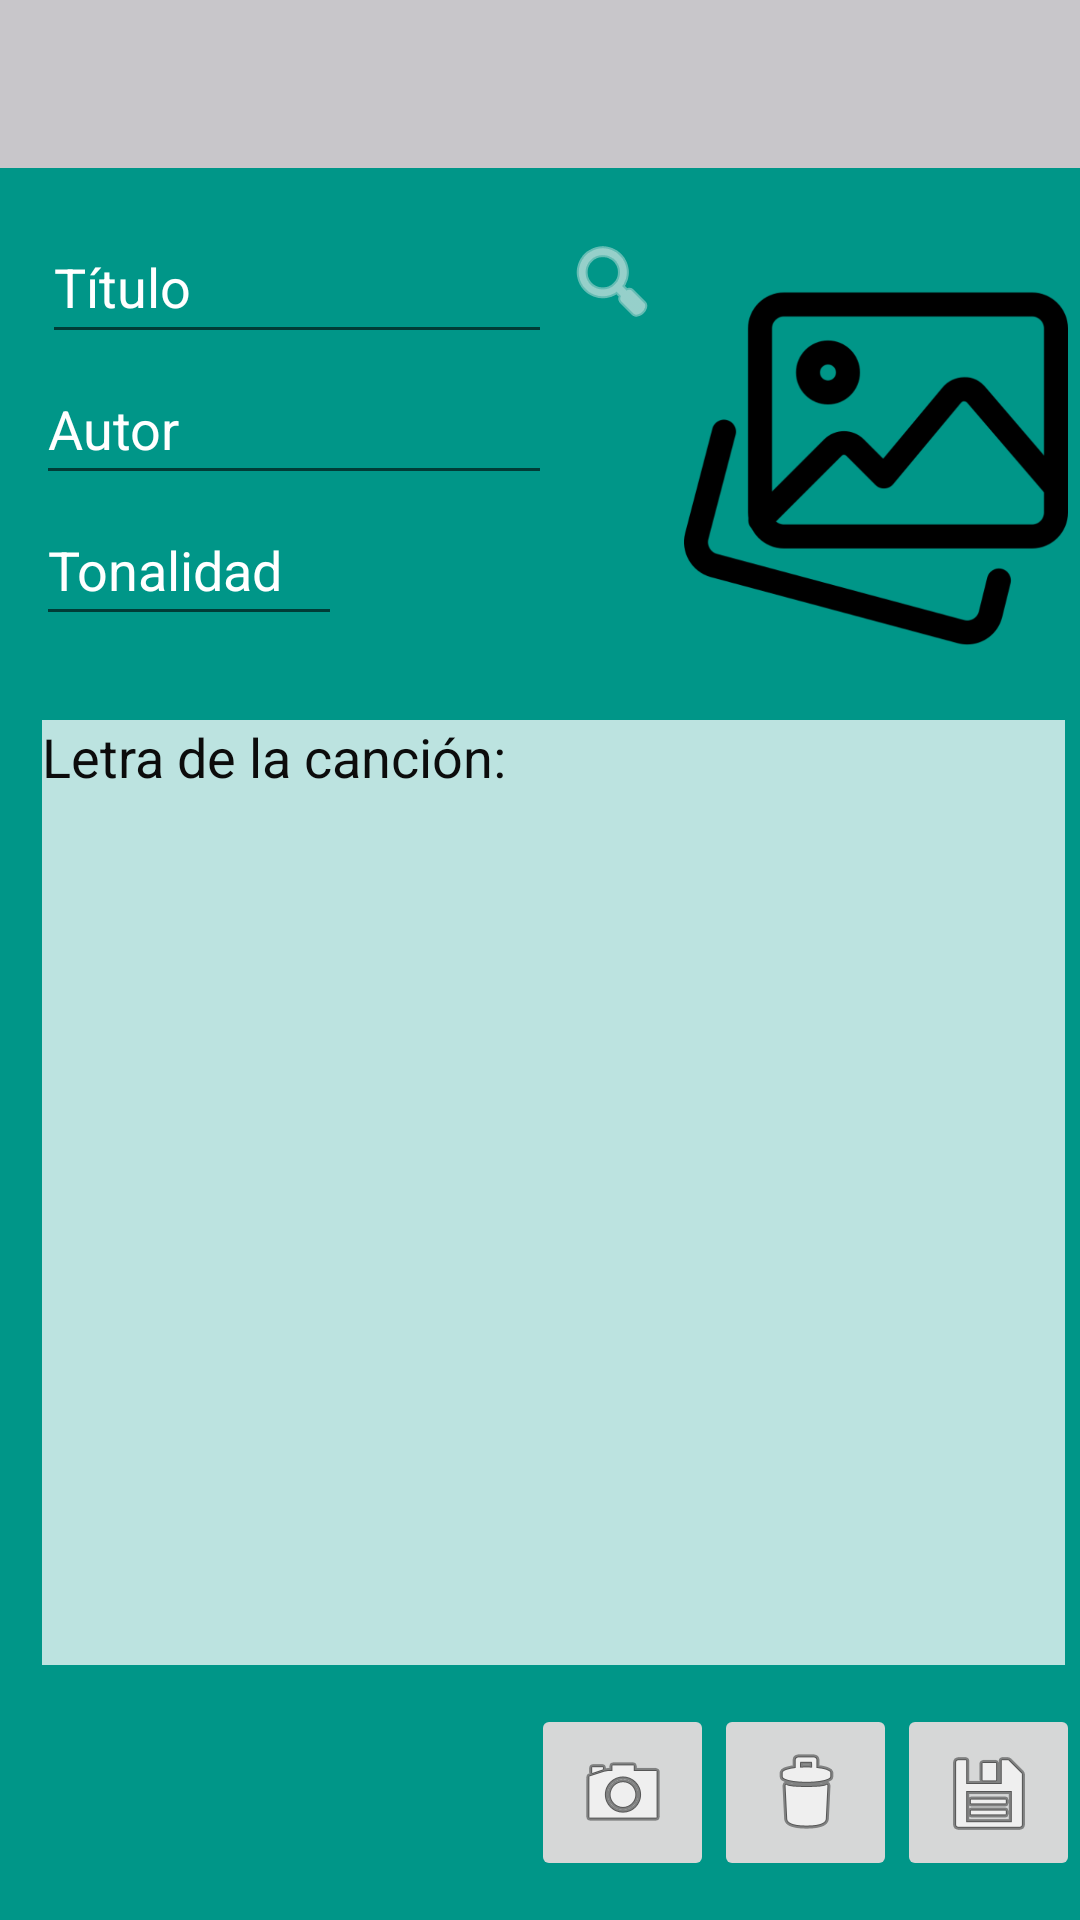

Icon click points for this 1080x1920 phone screenshot, format (x,y):
camera: (622,1792)
delete: (805,1792)
save: (988,1792)
search: (612,281)
